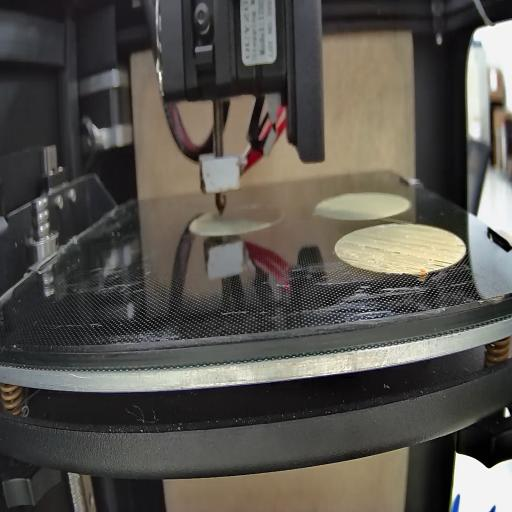under_extrusion: (353, 240, 401, 256), (427, 257, 453, 276), (400, 265, 421, 276), (373, 260, 393, 269), (341, 257, 360, 265), (452, 242, 466, 250)
